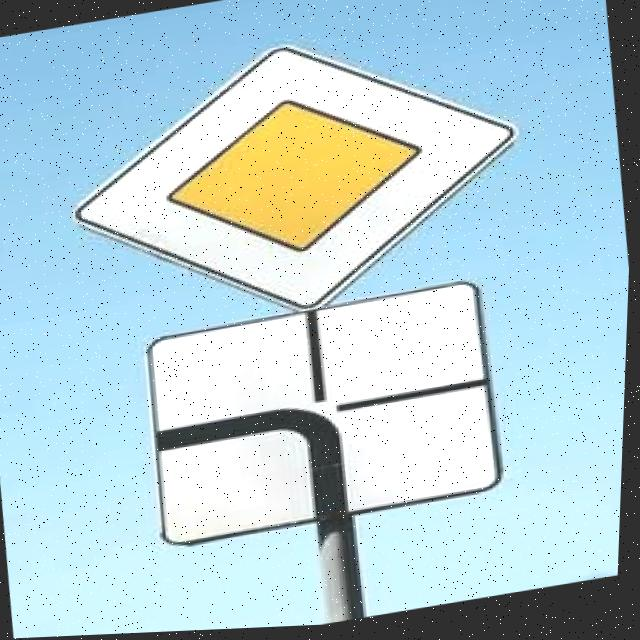signs: (52, 11, 541, 351)
